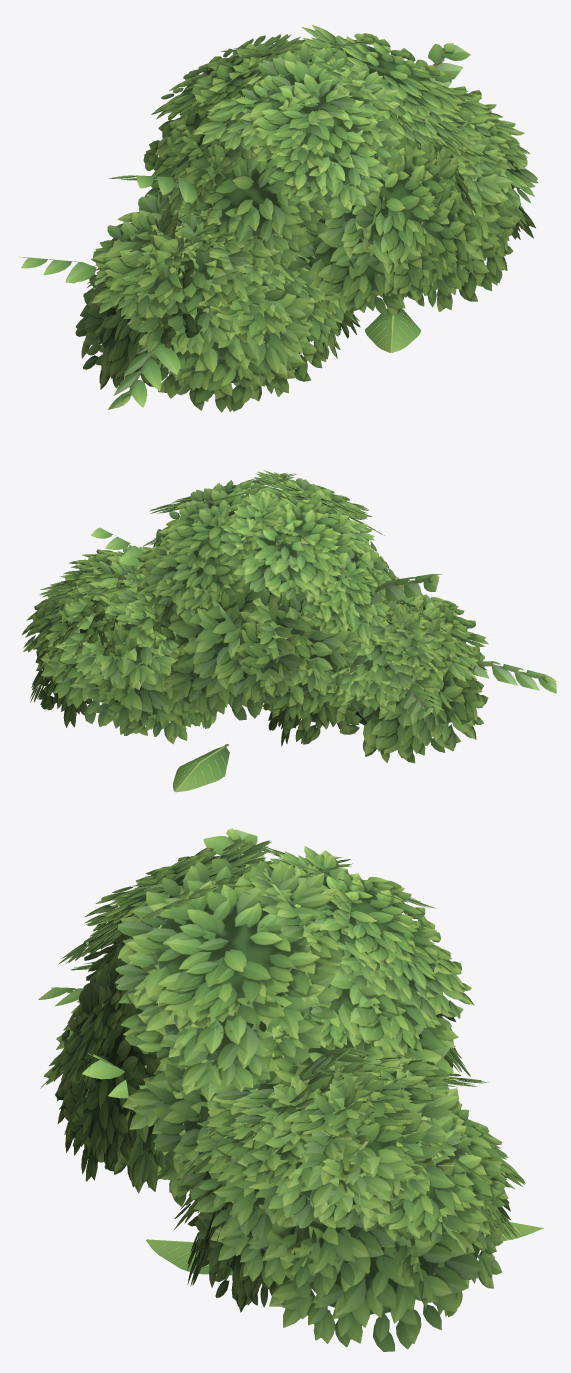
The model's file is bush_a.glb.
3 views of the same model, one above another, from view 1: azimuth 30°, elevation 25°; view 2: azimuth 150°, elevation 25°; view 3: azimuth 270°, elevation 25° (orthographic). The views are drawn at different scales.
Parts seen in each view (by area): view 1: bush_a_mesh; view 2: bush_a_mesh; view 3: bush_a_mesh.
Boxes of the visible parts, box(x1,y1,x2,y2) form: bush_a_mesh: box(19, 25, 538, 412); bush_a_mesh: box(22, 470, 556, 792); bush_a_mesh: box(38, 828, 543, 1351).
Bounding box in the file's own units: 1.94 × 1.03 × 1.33.
1 material, 1 textured.
